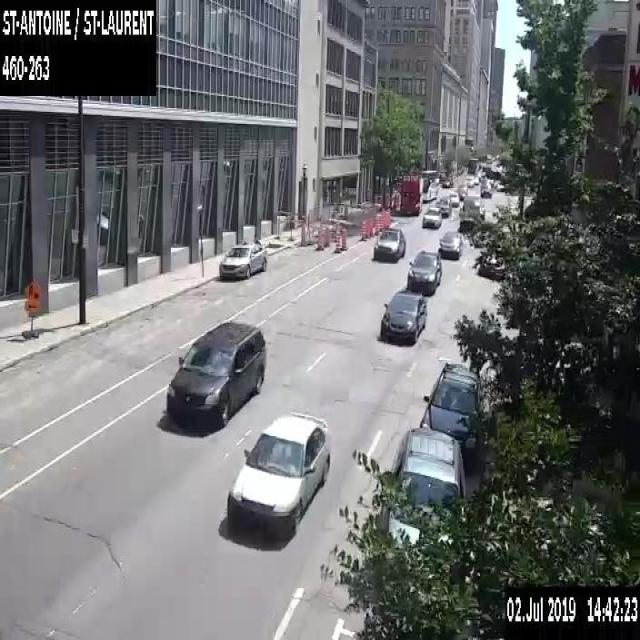bus: (399, 172, 423, 215), (418, 168, 438, 200)
construction: (21, 276, 43, 338), (275, 207, 306, 244), (340, 227, 347, 250), (334, 229, 341, 252), (323, 225, 330, 246), (316, 225, 322, 249), (360, 219, 366, 240), (365, 218, 371, 238), (370, 217, 374, 236), (374, 216, 378, 234), (378, 216, 382, 230)
vehicle: (224, 409, 331, 543), (165, 318, 267, 431), (380, 426, 464, 547), (420, 361, 486, 463), (380, 288, 427, 344), (218, 241, 266, 280), (406, 249, 441, 293), (371, 226, 407, 262), (477, 252, 505, 278), (438, 230, 462, 257), (462, 193, 484, 217), (422, 206, 441, 227), (436, 196, 452, 216), (455, 184, 467, 199), (448, 191, 459, 205), (480, 183, 491, 196), (442, 177, 453, 187), (465, 174, 474, 186), (474, 175, 478, 184)
